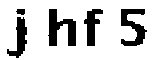5: (118, 4, 149, 49)
f: (81, 5, 107, 51)
h: (43, 5, 79, 51)
j: (6, 6, 36, 60)
